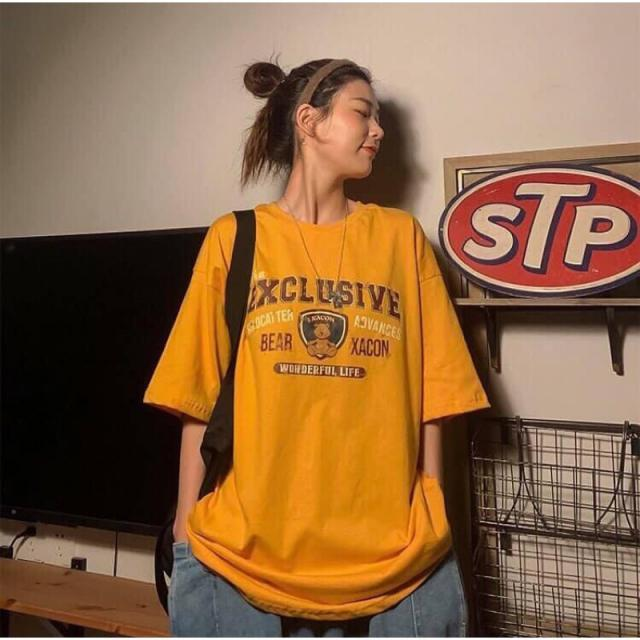Shirt: (138, 196, 496, 622)
